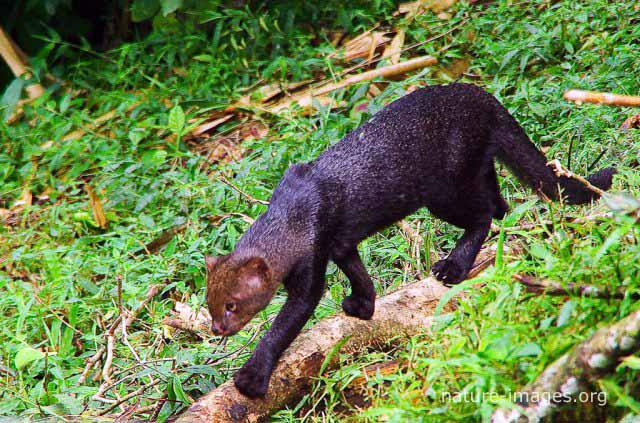Jaguarundi: (198, 82, 616, 398)
